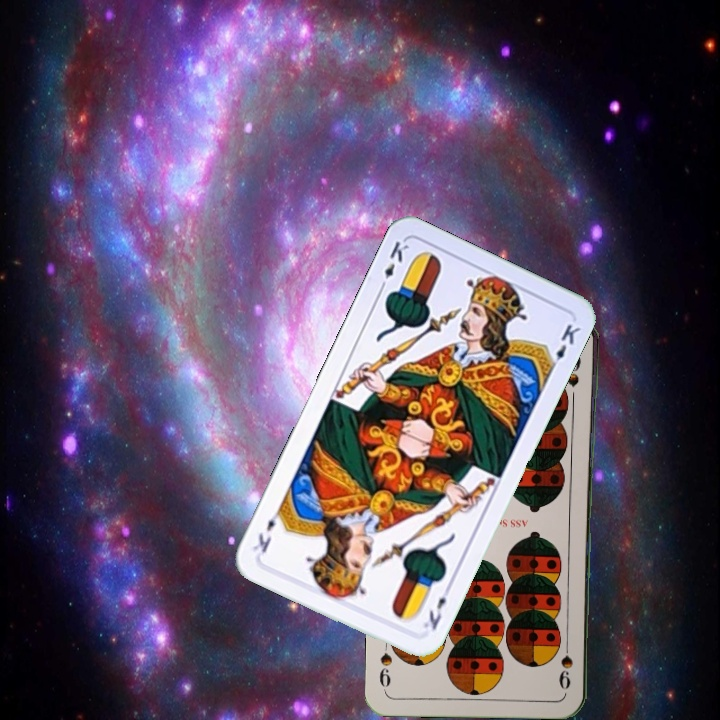EK: (375, 236, 412, 294), (419, 581, 454, 633)
S9: (558, 634, 575, 692)
